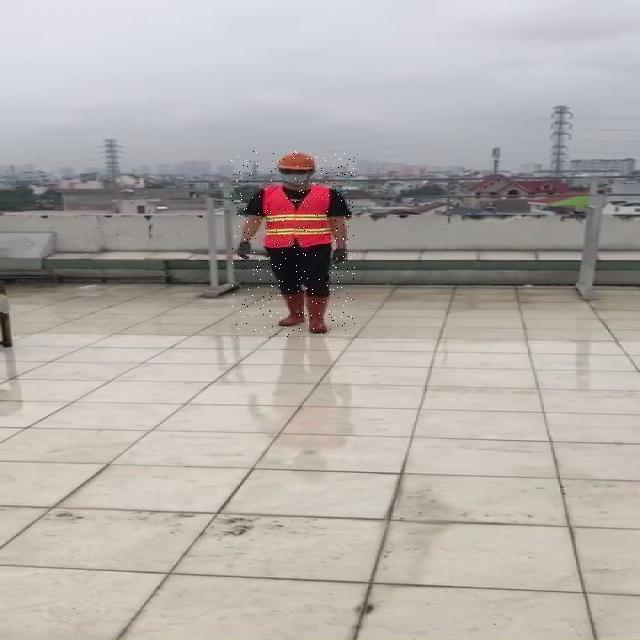gloves: (236, 241, 253, 261), (330, 246, 346, 266)
goggles: (280, 168, 311, 176)
helmet: (277, 151, 317, 171)
safety_vest: (259, 186, 332, 249)
